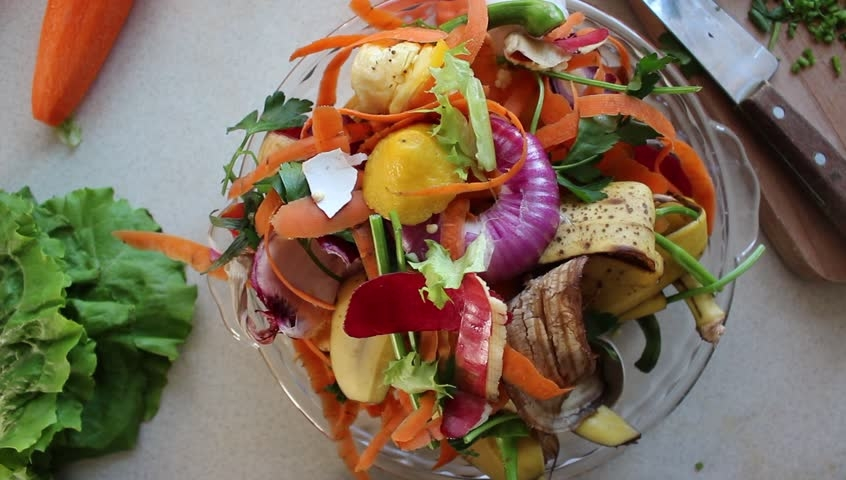kitchen_waste: (1, 179, 204, 479), (513, 175, 740, 348), (500, 255, 646, 454), (445, 103, 567, 296), (200, 87, 373, 219), (23, 1, 141, 146), (352, 119, 489, 227), (321, 274, 511, 342), (597, 130, 733, 224), (438, 267, 517, 409), (112, 220, 257, 291), (336, 27, 452, 106), (554, 82, 685, 137), (438, 1, 577, 51)
